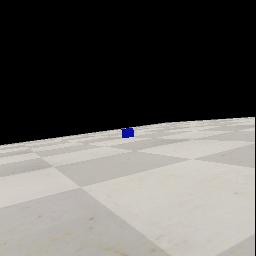box: (121, 128, 134, 138)
